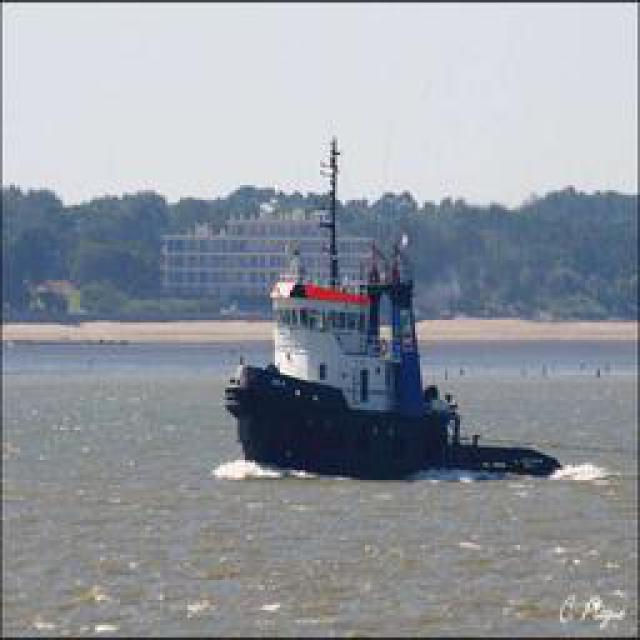Ship: (226, 221, 506, 484)
